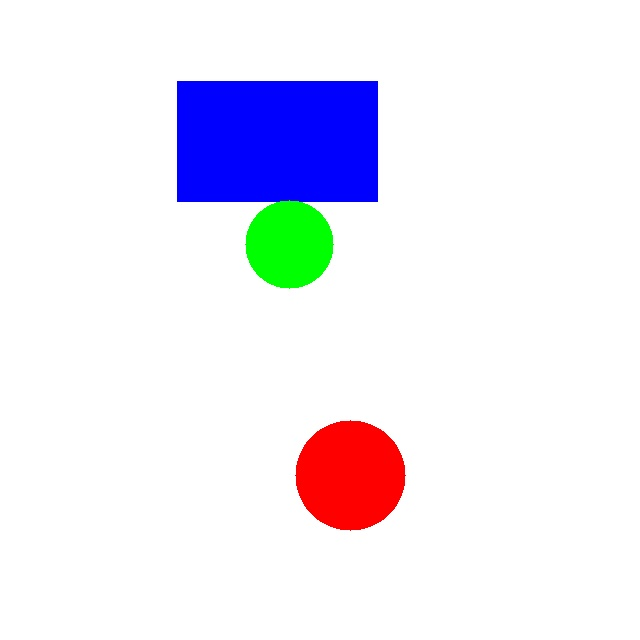cartao: (177, 81, 377, 201)
rosca_externa: (245, 200, 333, 288)
rosca_interna: (295, 420, 405, 530)
